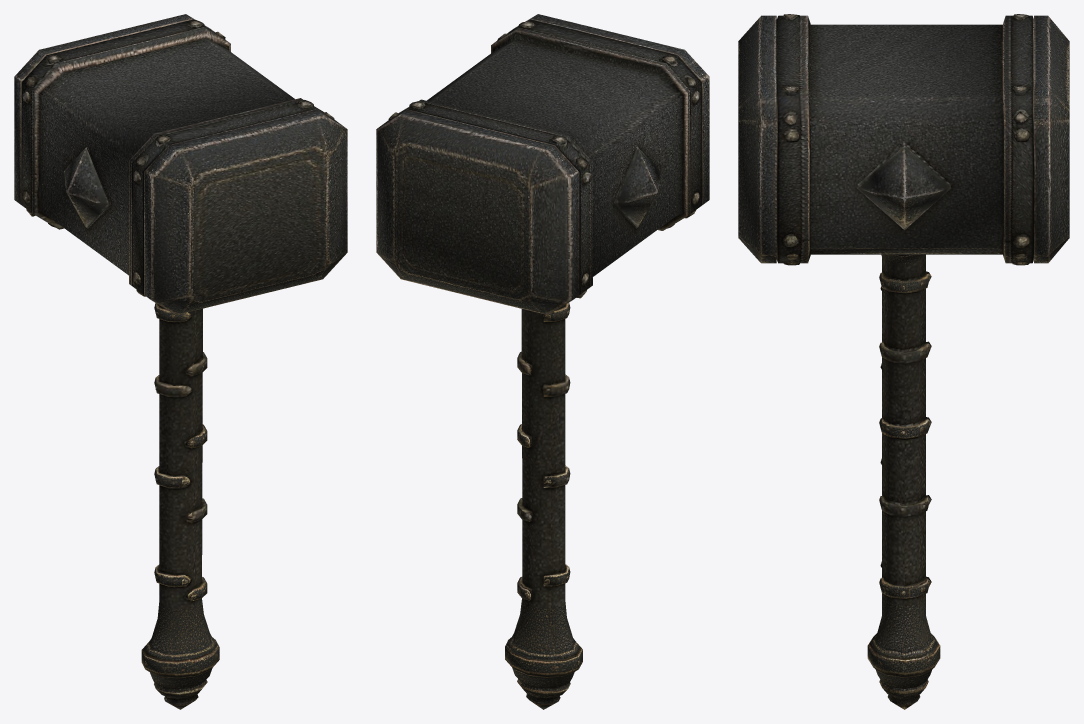
The model's file is tripo_convert_9c523c2c-ac0d-4238-b91c-f1390504fe00.fbx.
3 views of the same model, side by side, from view 1: azimuth 30°, elevation 25°; view 2: azimuth 150°, elevation 25°; view 3: azimuth 270°, elevation 25° (orthographic). The views are drawn at different scales.
Parts seen in each view (by area): view 1: tripo_node_9c523c2c; view 2: tripo_node_9c523c2c; view 3: tripo_node_9c523c2c.
Part boxes in pixels (bbox=[...]): tripo_node_9c523c2c: bbox=[14, 14, 347, 709]; tripo_node_9c523c2c: bbox=[376, 14, 709, 709]; tripo_node_9c523c2c: bbox=[738, 14, 1069, 709].
Bounding box in the file's own units: 0.3809 × 0.998 × 0.4551.
